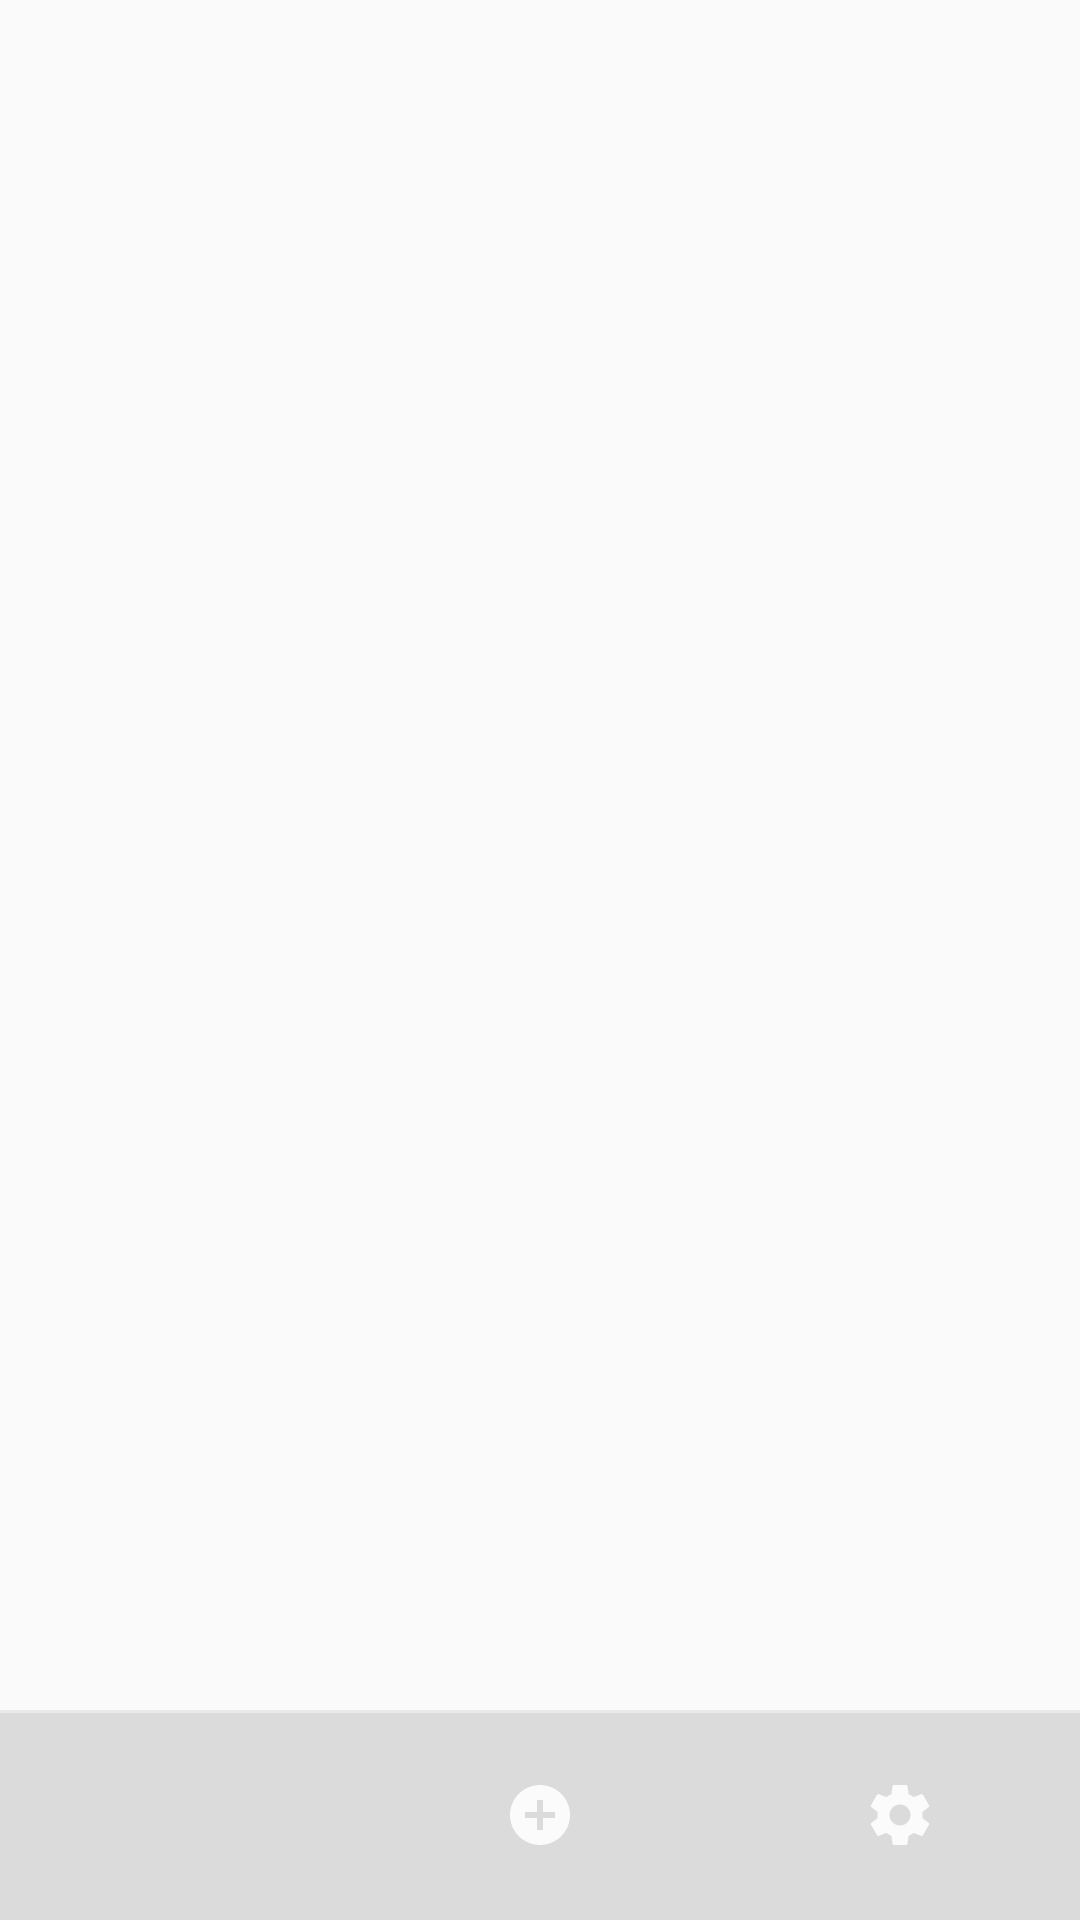

Icon click points for this 1080px×1920px phone screenshot, format (x=x, y=y):
add: (x=540, y=1815)
settings: (x=900, y=1815)
